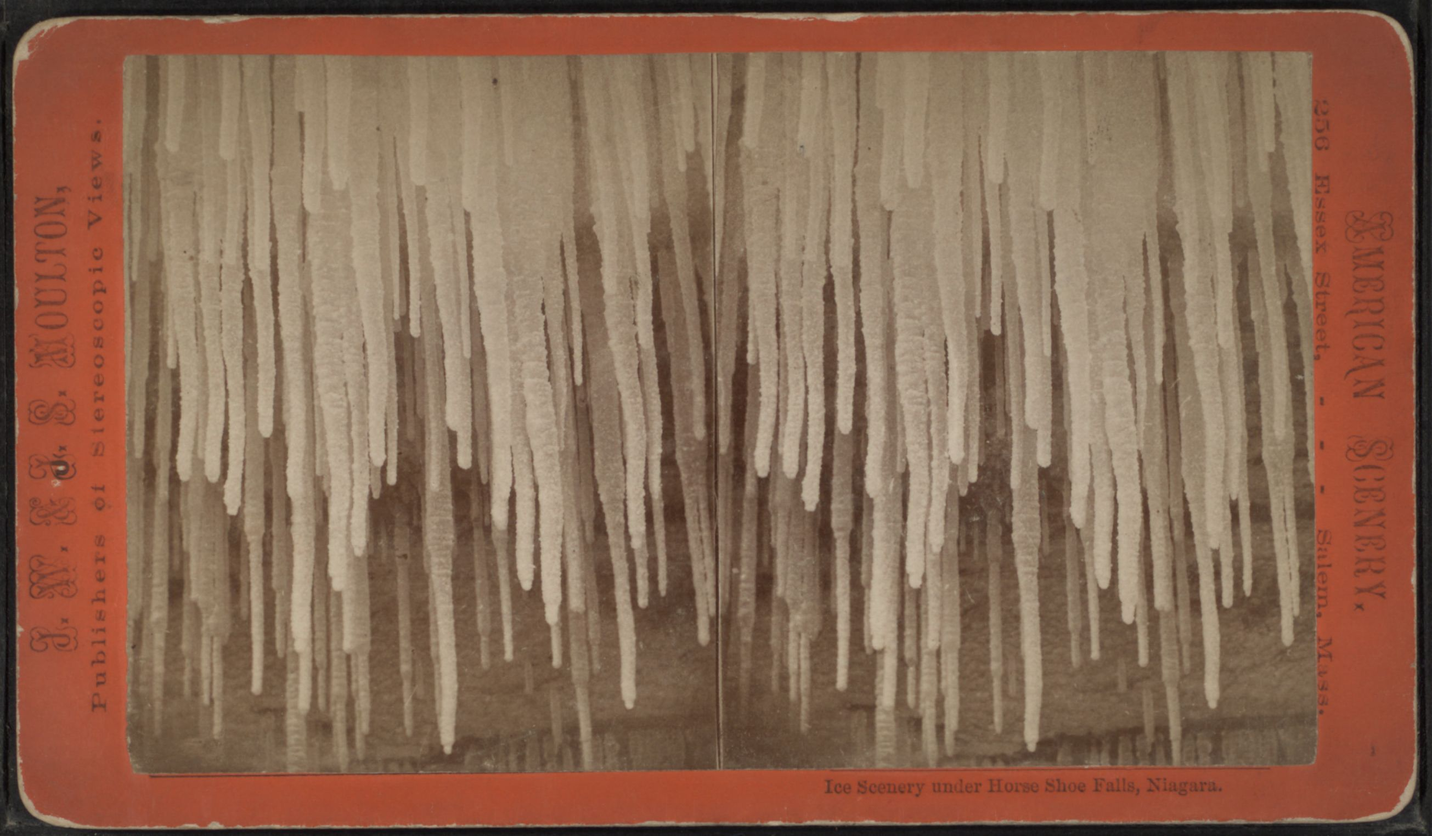half_image: (717, 52, 1319, 770), (125, 55, 717, 774)
